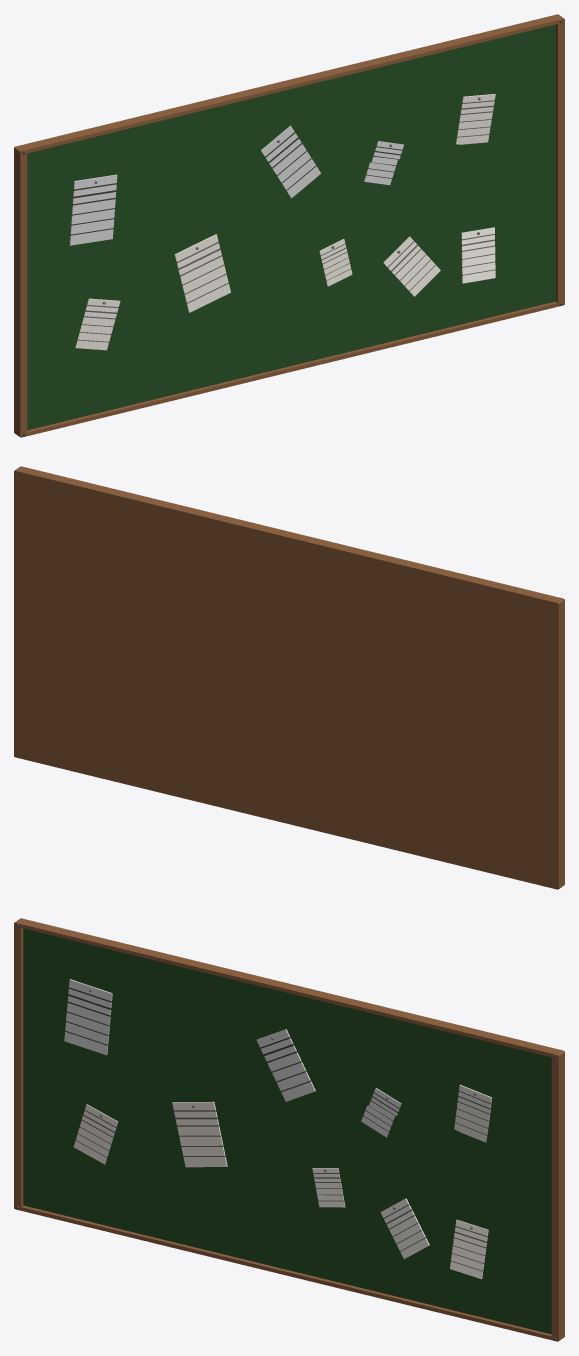
File: WallMagazine.fbx
3 views of the same model, one above another, from view 1: azimuth 30°, elevation 25°; view 2: azimuth 150°, elevation 25°; view 3: azimuth 330°, elevation 25° (orthographic).
Visible parts, largest first — view 1: WallMagazine; view 2: WallMagazine; view 3: WallMagazine.
Part boxes in pixels (<box>): WallMagazine: <box>14,14,564,437</box>; WallMagazine: <box>14,466,564,889</box>; WallMagazine: <box>14,918,564,1341</box>.
Size of the model in its own units: 1186 by 596 by 38.09.
